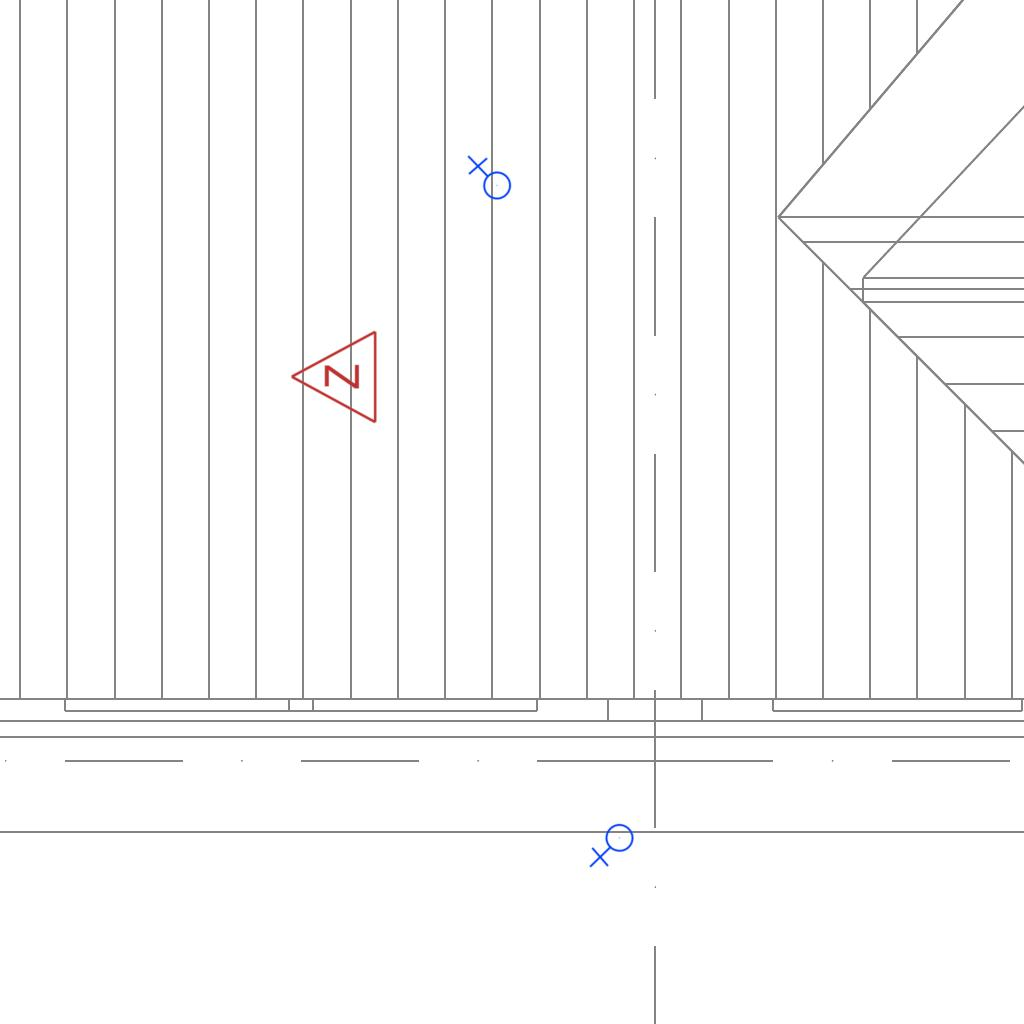Elektroanschluss_allgemein_230V_Geraeteanschlussdose_230V: (589, 823, 638, 870), (465, 155, 512, 204)
Zimmersignalleuchte: (284, 329, 384, 427)
